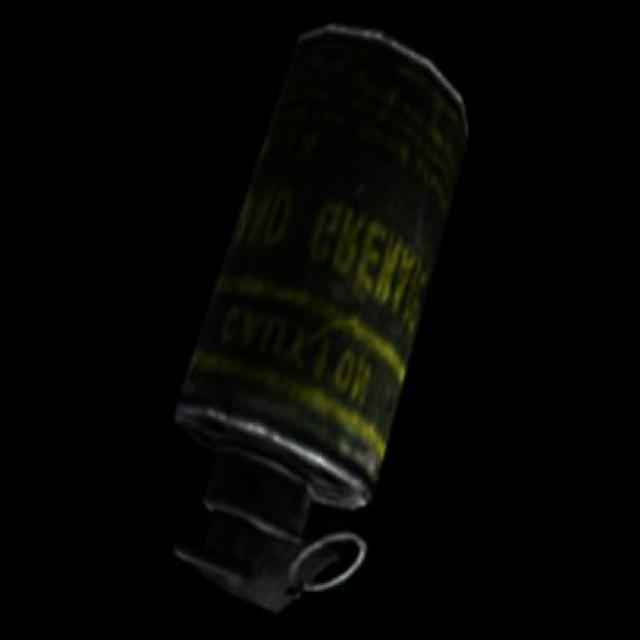grenade: (171, 25, 469, 615)
